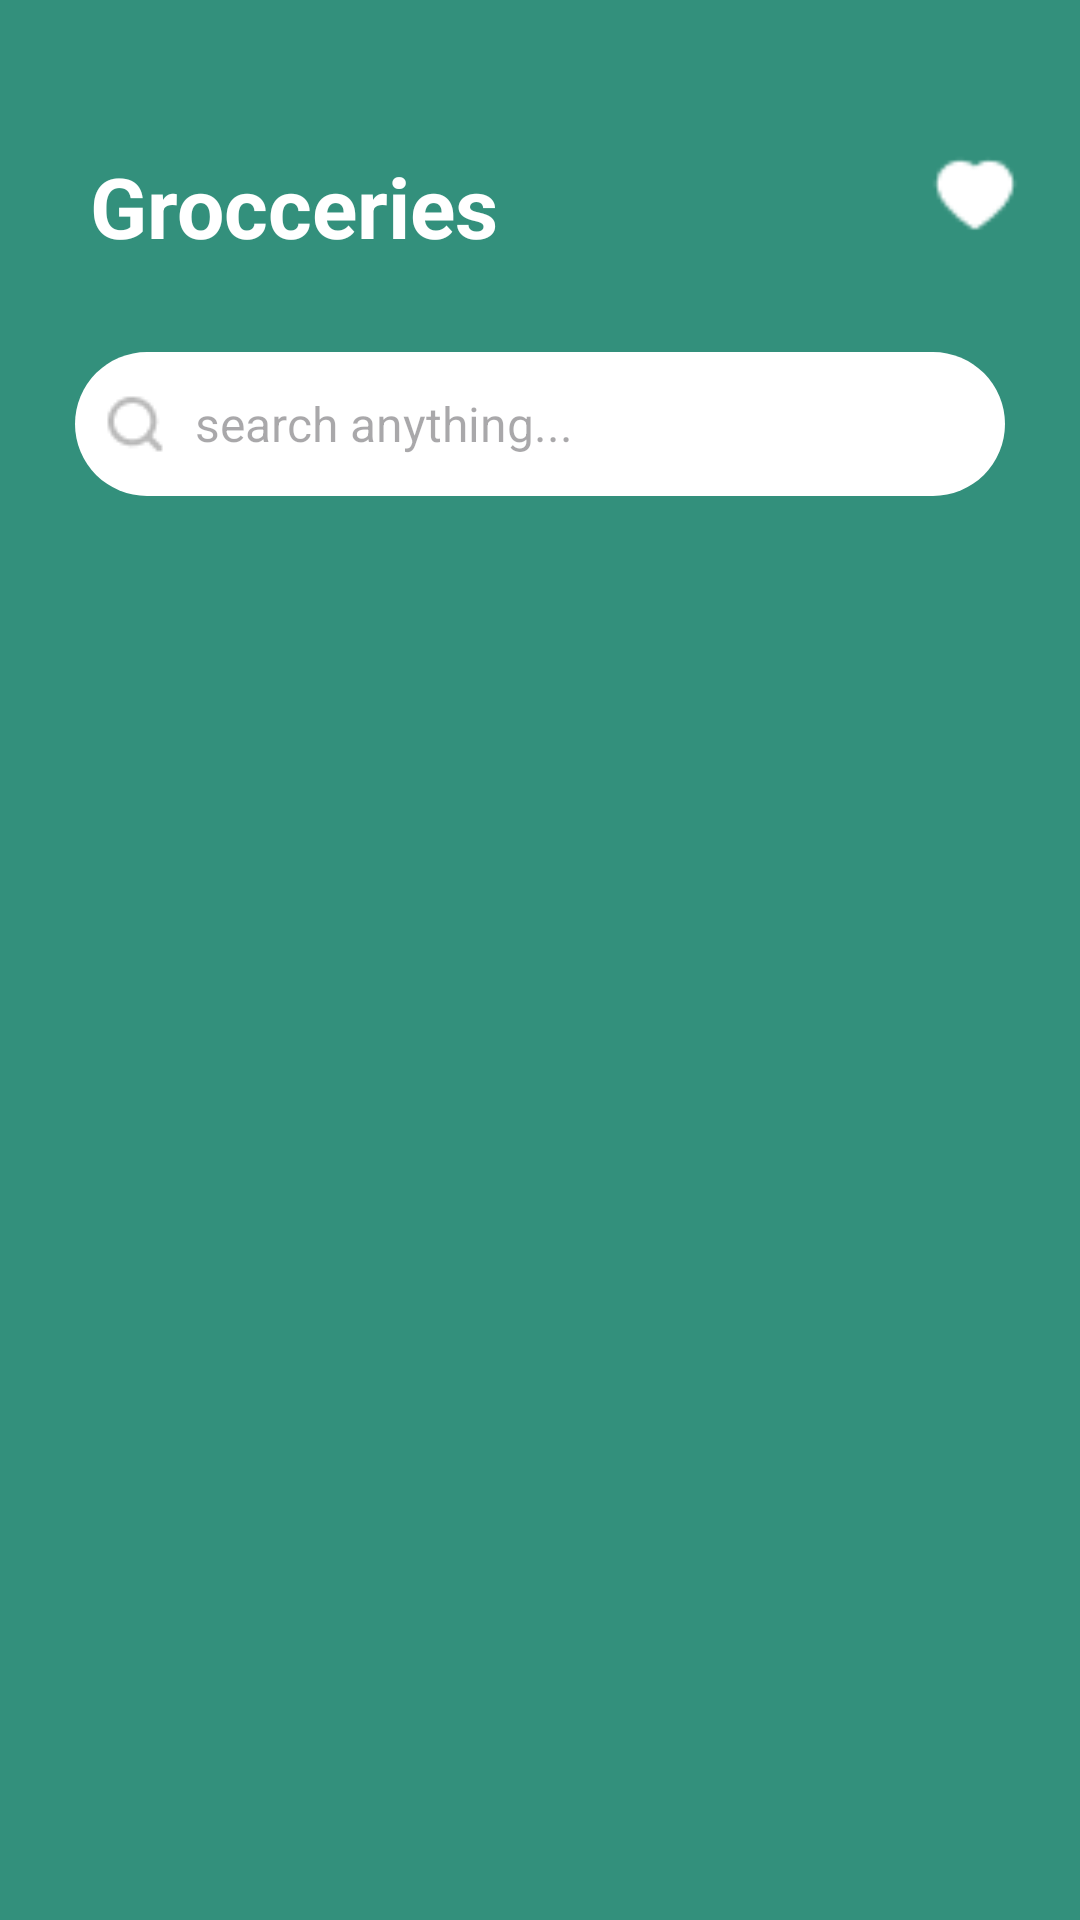

Icon bounding boxes for this 1080*1920 phone screenshot, format (x1, y1, x2, y2):
love: (935, 160, 1015, 230)
